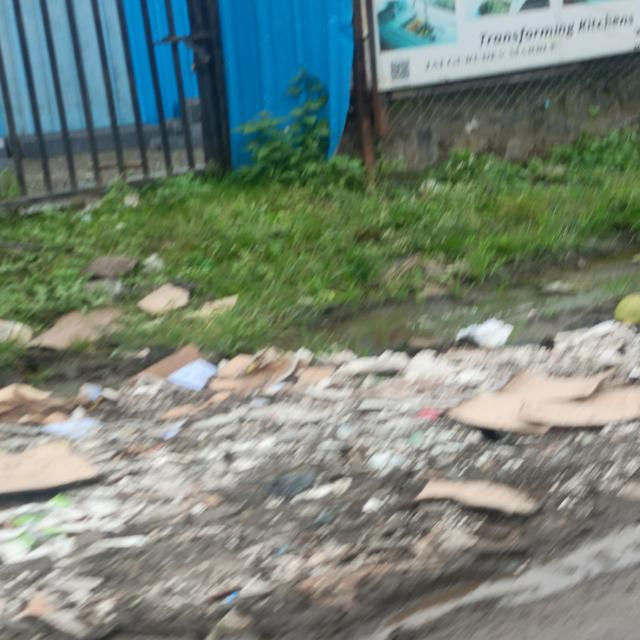garbage: (0, 345, 640, 543)
